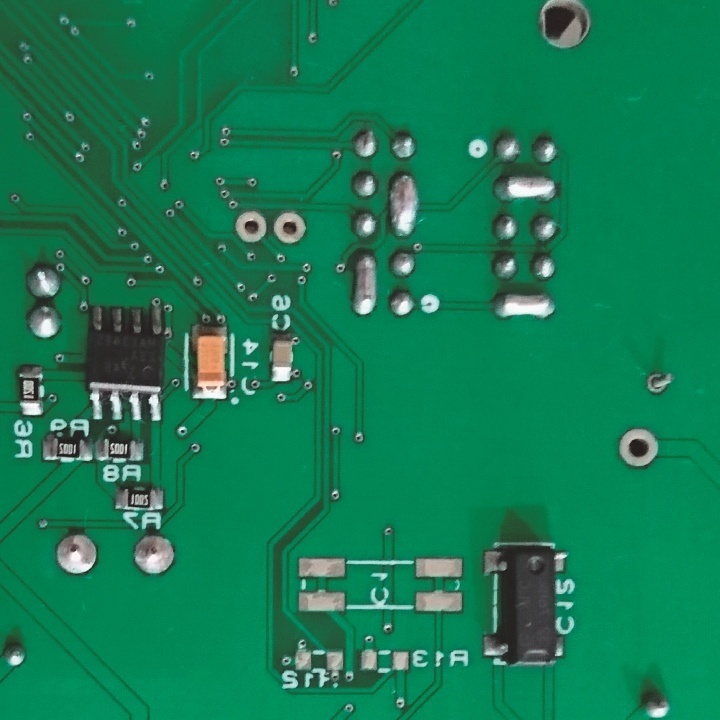F: (53, 531, 103, 578), (614, 425, 661, 472), (131, 532, 179, 578), (273, 209, 307, 251), (231, 209, 270, 245), (643, 369, 676, 400)
P: (489, 289, 560, 323), (384, 169, 417, 241), (492, 169, 558, 203), (352, 249, 378, 324)
